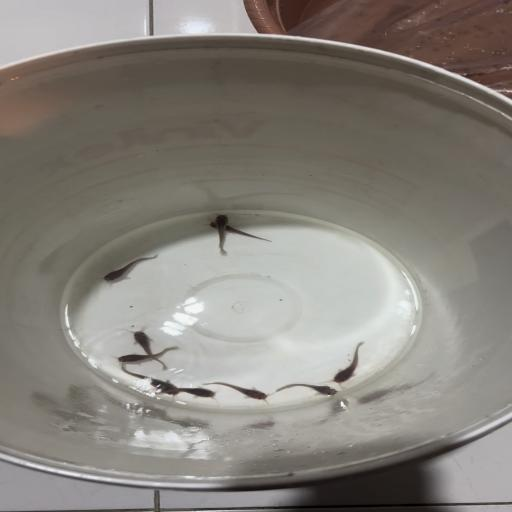lele: (126, 325, 176, 371), (110, 366, 176, 398), (101, 252, 160, 285), (327, 341, 371, 385), (198, 221, 274, 242), (212, 380, 273, 405), (274, 380, 343, 400), (208, 212, 238, 255), (117, 346, 183, 365), (151, 387, 224, 398)
